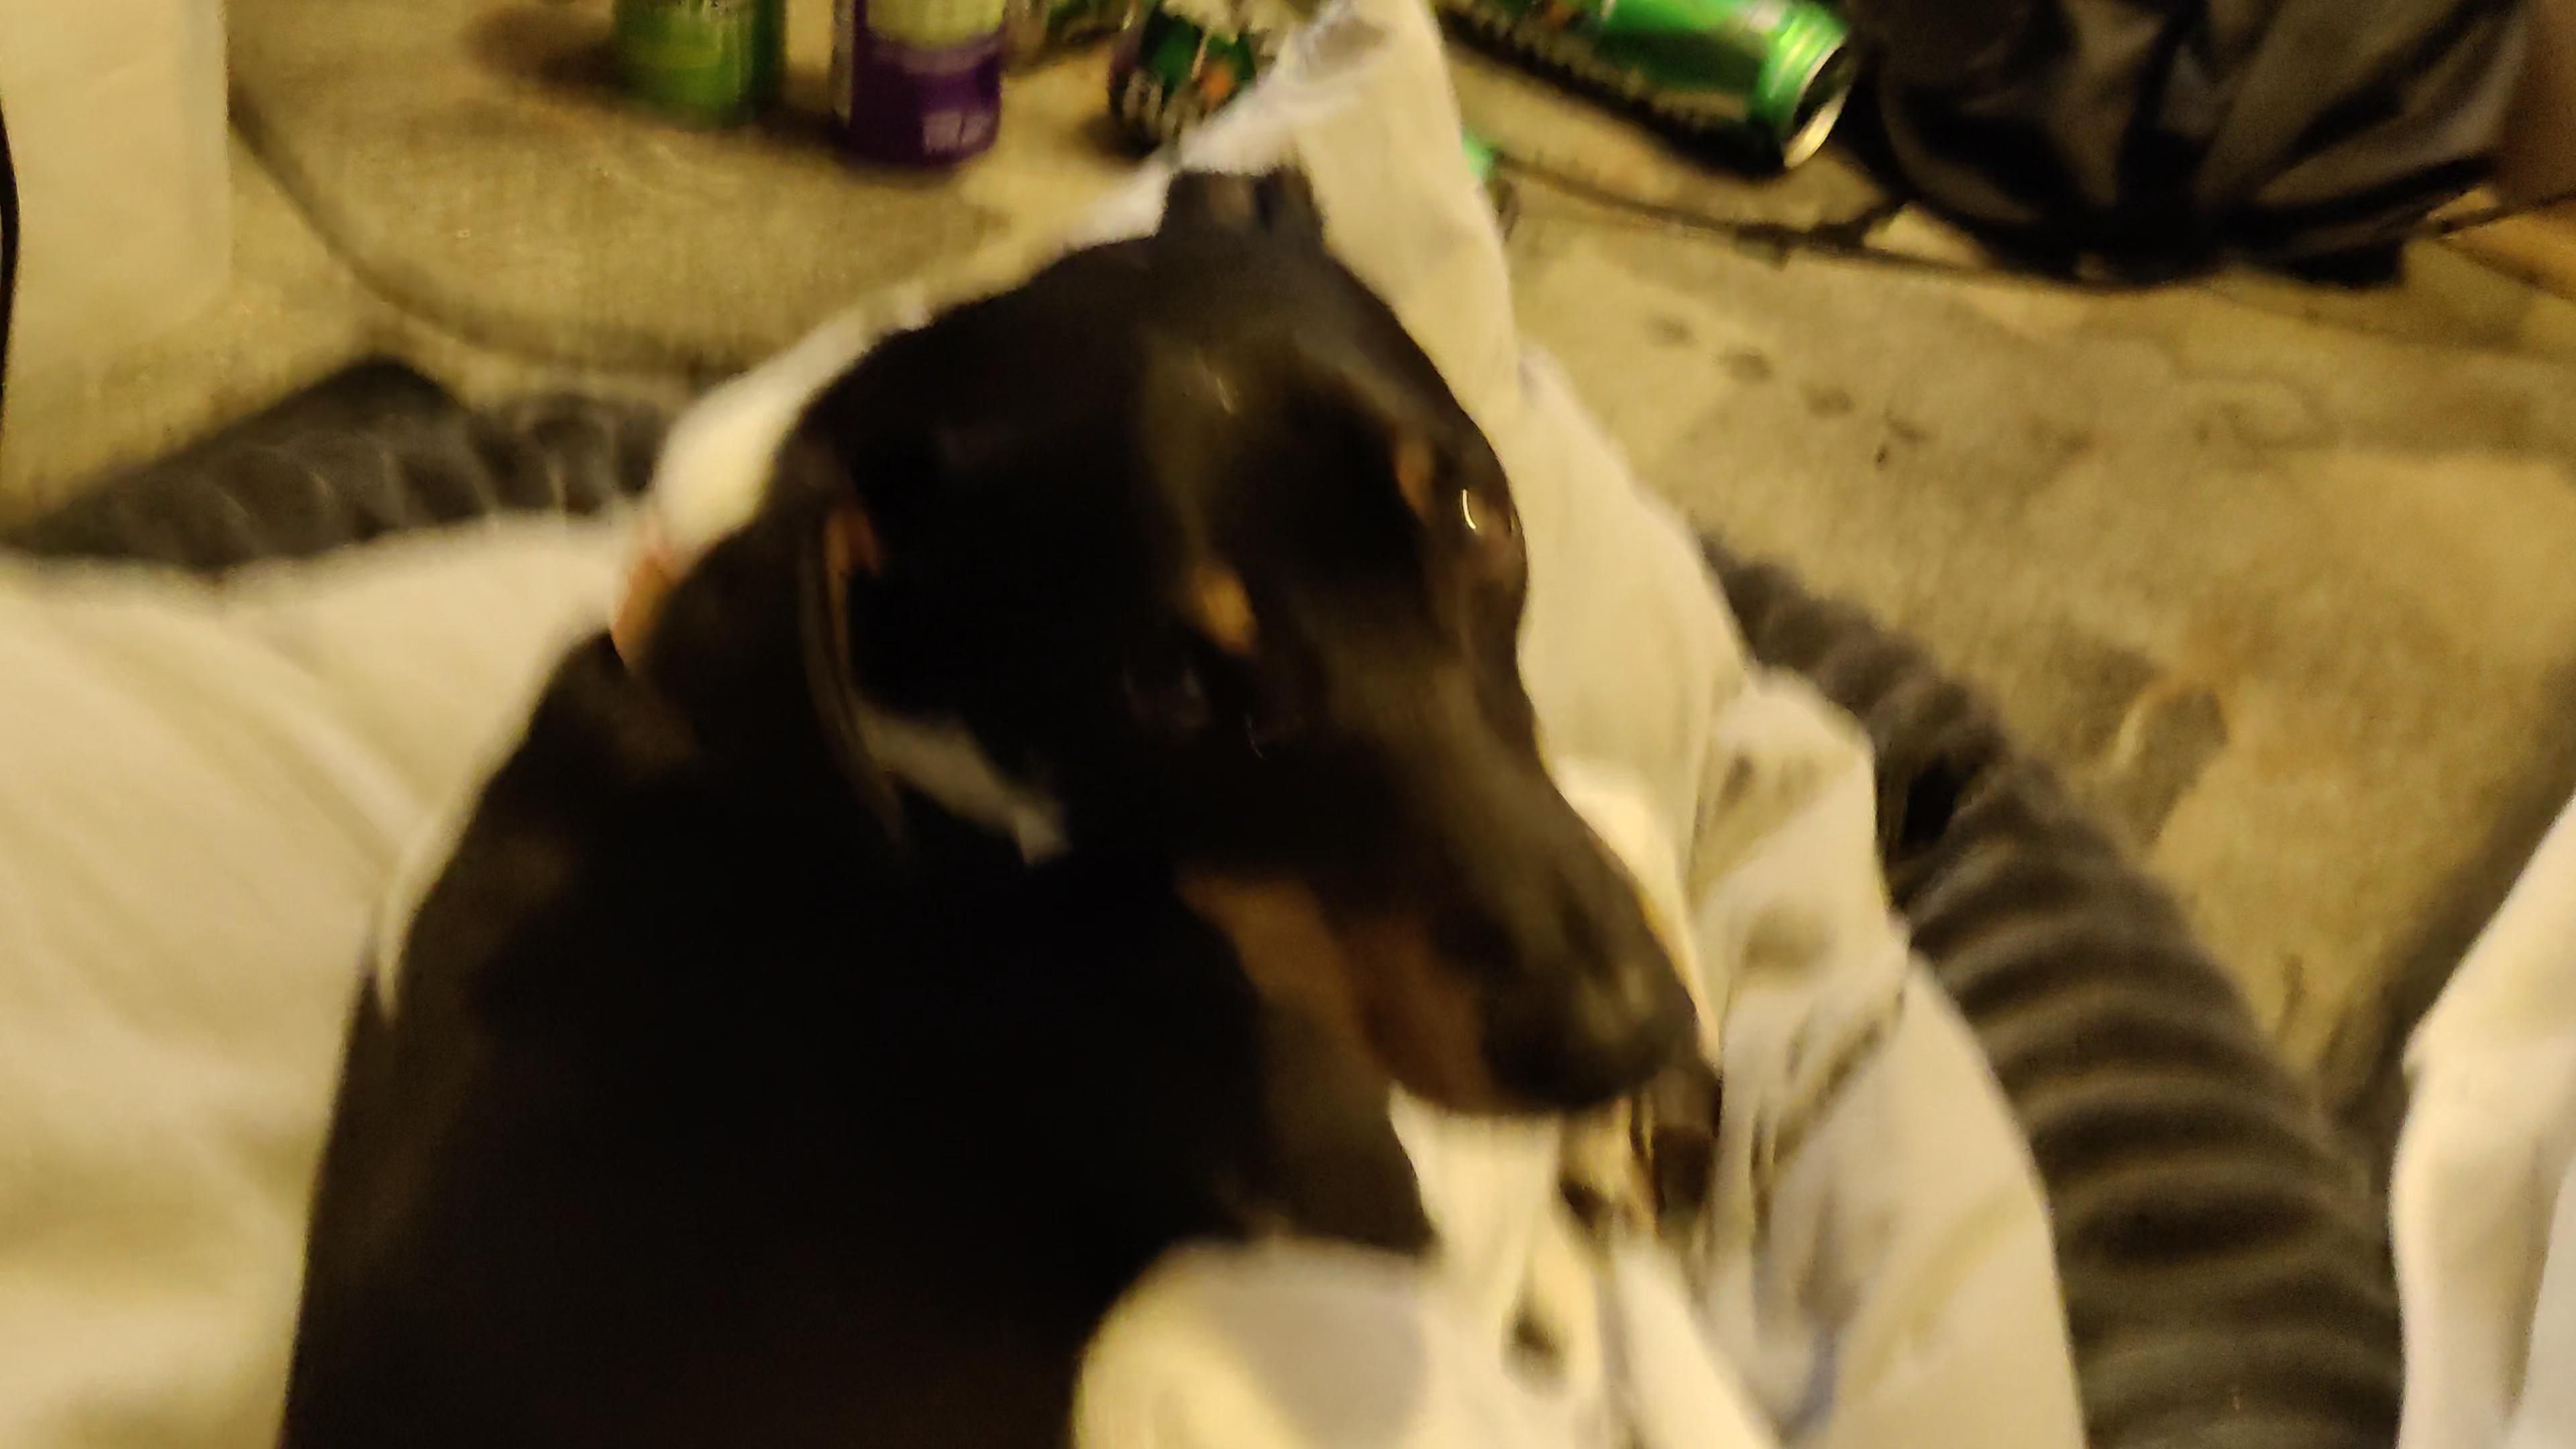Dog: (258, 115, 1743, 1449)
